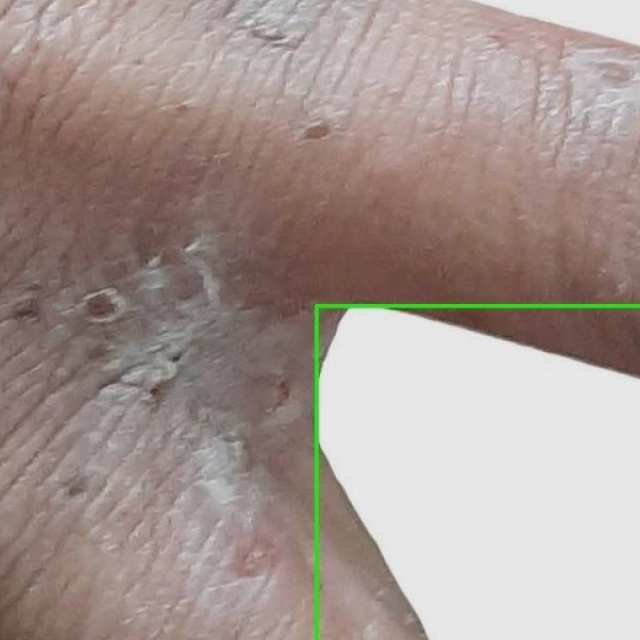Scabies: (315, 305, 639, 639)
